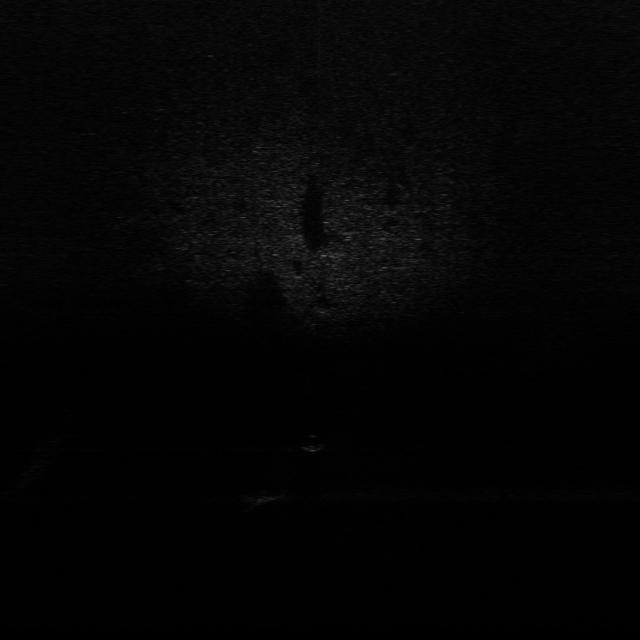ball: (297, 433, 323, 454)
square cage: (238, 483, 291, 511)
